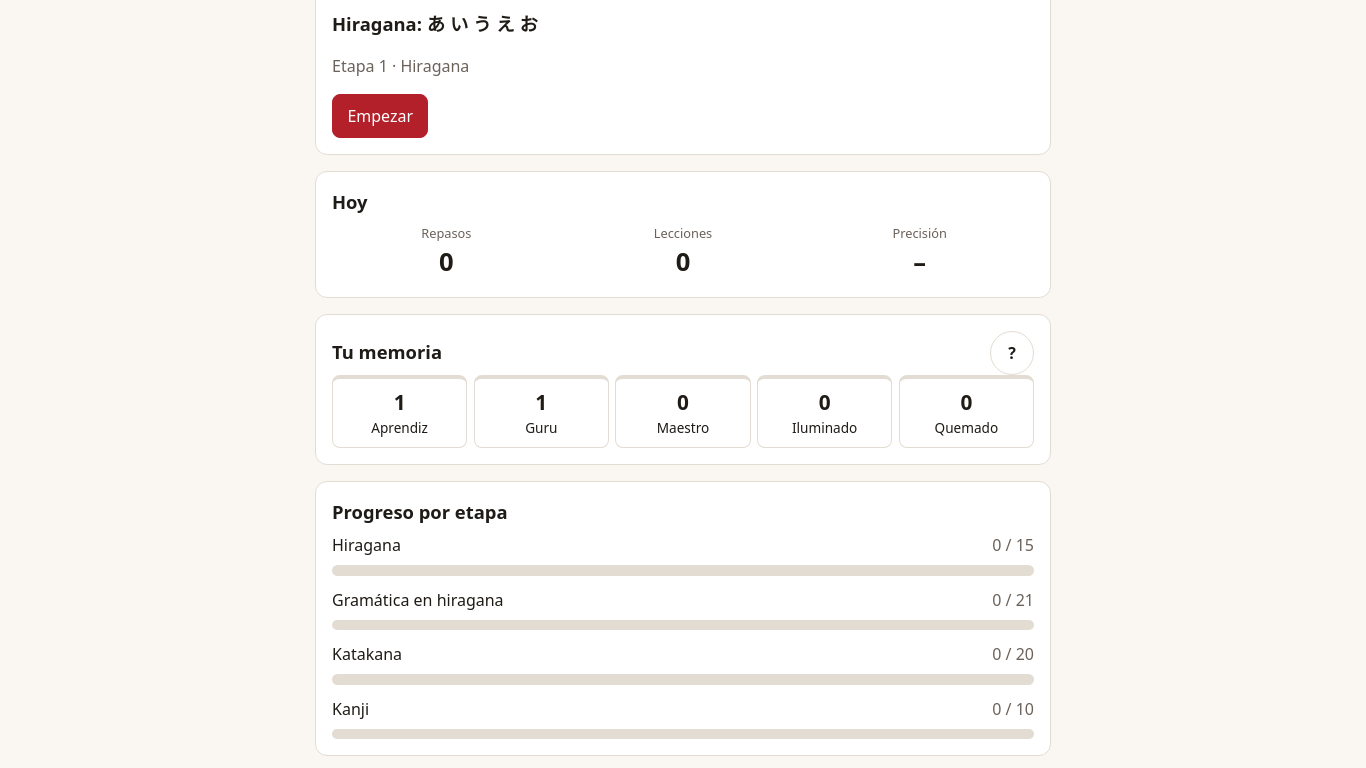
Scenario: Dashboard SRS cards and help › links every card to its memory page
(page scrolled)
Click the link with aria-label "Guru: 1".
click(541, 413)  # box [525, 388, 558, 437]
(page scrolled)
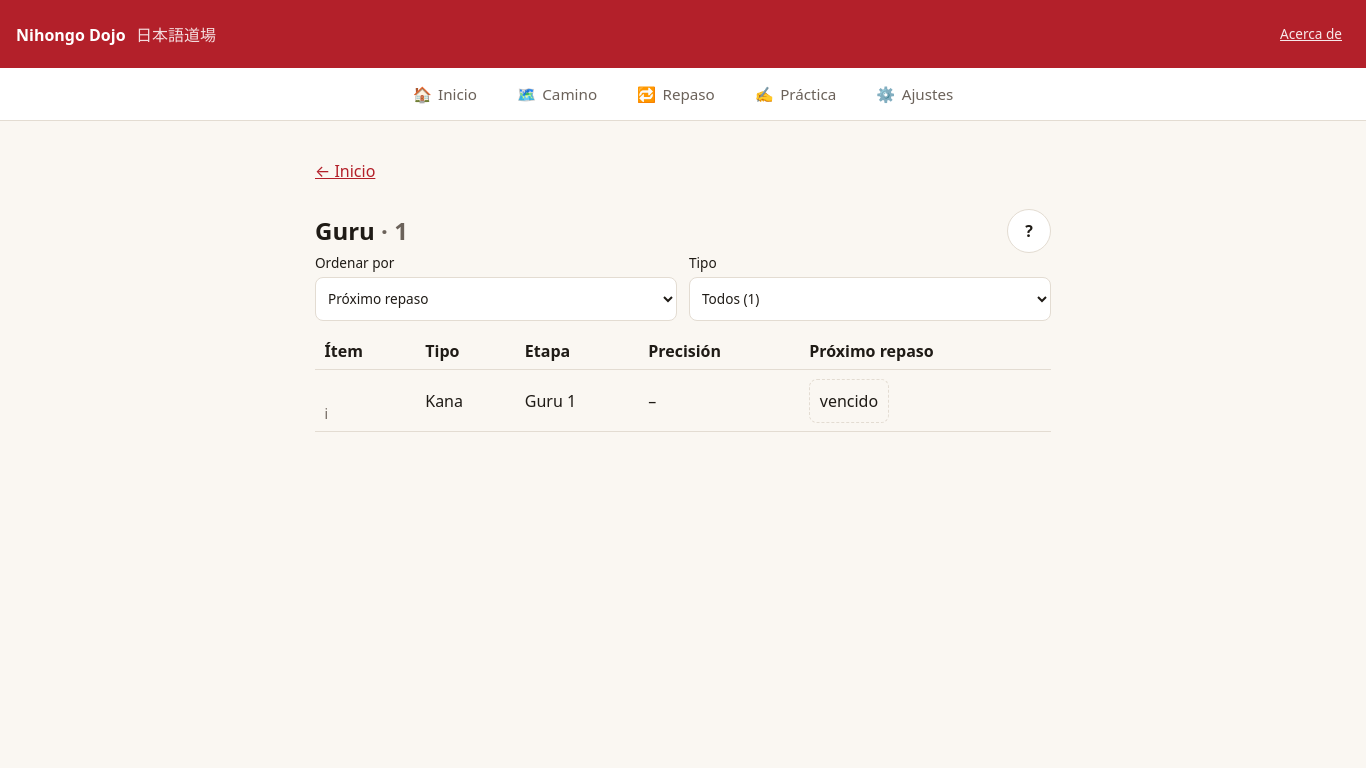
Now the heading "Guru · 1" is shown, box [315, 213, 408, 249]
